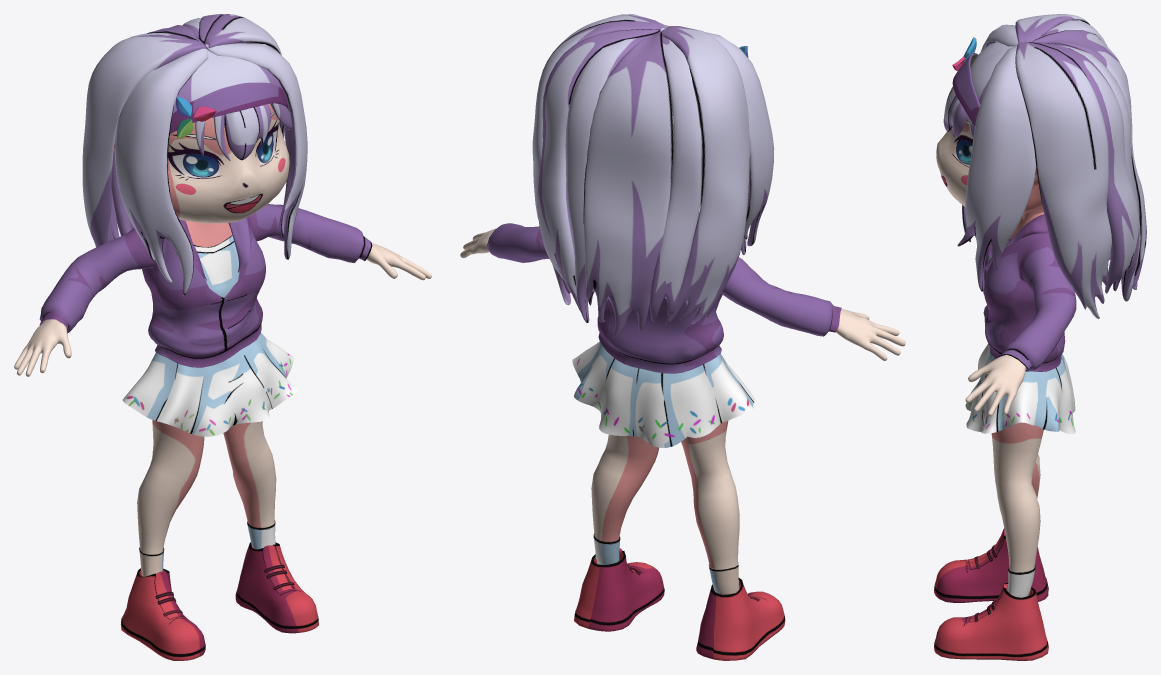
The model's file is chubby_idle.fbx.
3 renders of one model, left to right at view 1: azimuth 30°, elevation 25°; view 2: azimuth 150°, elevation 25°; view 3: azimuth 270°, elevation 25°, orthographic. The views are drawn at different scales.
Visible parts, largest first — view 1: cloth1, b7:b7, b20:b21, head1, b2:b2; view 2: b7:b7, cloth1, b20:b21, head1; view 3: b7:b7, b20:b21, cloth1, head1, b2:b2.
Boxes of the visible parts, <box> form: cloth1: <box>39,204,372,436</box>; b7:b7: <box>82,14,307,295</box>; b20:b21: <box>120,420,318,660</box>; head1: <box>14,82,431,376</box>; b2:b2: <box>224,104,271,160</box>; b7:b7: <box>532,14,774,337</box>; cloth1: <box>487,212,841,447</box>; b20:b21: <box>574,421,785,660</box>; head1: <box>460,46,905,360</box>; b7:b7: <box>957,14,1146,318</box>; b20:b21: <box>934,422,1048,660</box>; cloth1: <box>965,214,1076,434</box>; head1: <box>936,37,1044,416</box>; b2:b2: <box>943,86,967,137</box>.
Bounding box in the file's own units: 8.43 × 11.33 × 3.73.
4 materials, 4 textured.
